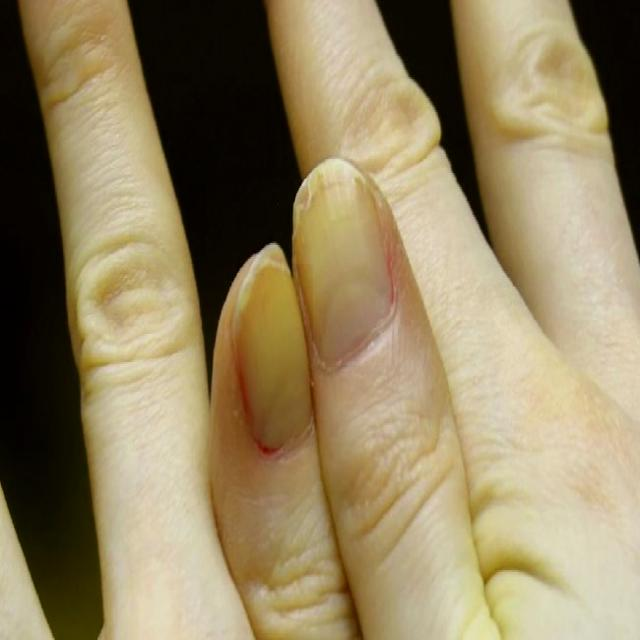sehat: (296, 179, 392, 365), (237, 264, 313, 451)
